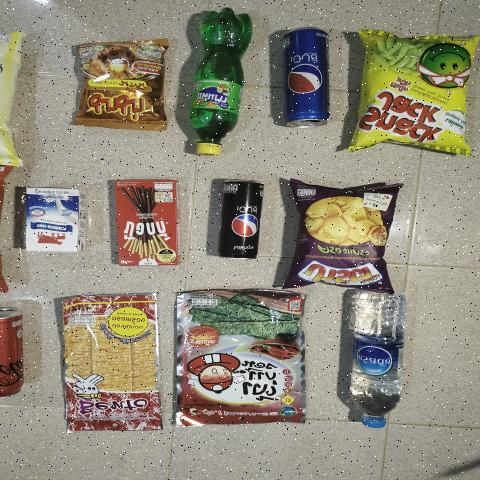bento_red: (66, 290, 158, 432)
coke_red: (0, 305, 28, 398)
crystal: (330, 290, 407, 432)
fanta_green: (182, 9, 258, 160)
mama: (77, 46, 172, 131)
party_purple: (288, 194, 390, 284)
pepsi_black: (215, 177, 269, 262)
pepsi_blue: (278, 25, 338, 128)
pokki: (118, 174, 182, 264)
snack_jack: (359, 45, 480, 144)
taokaenoi: (182, 285, 304, 428)
thai_denmark: (27, 189, 89, 252)
